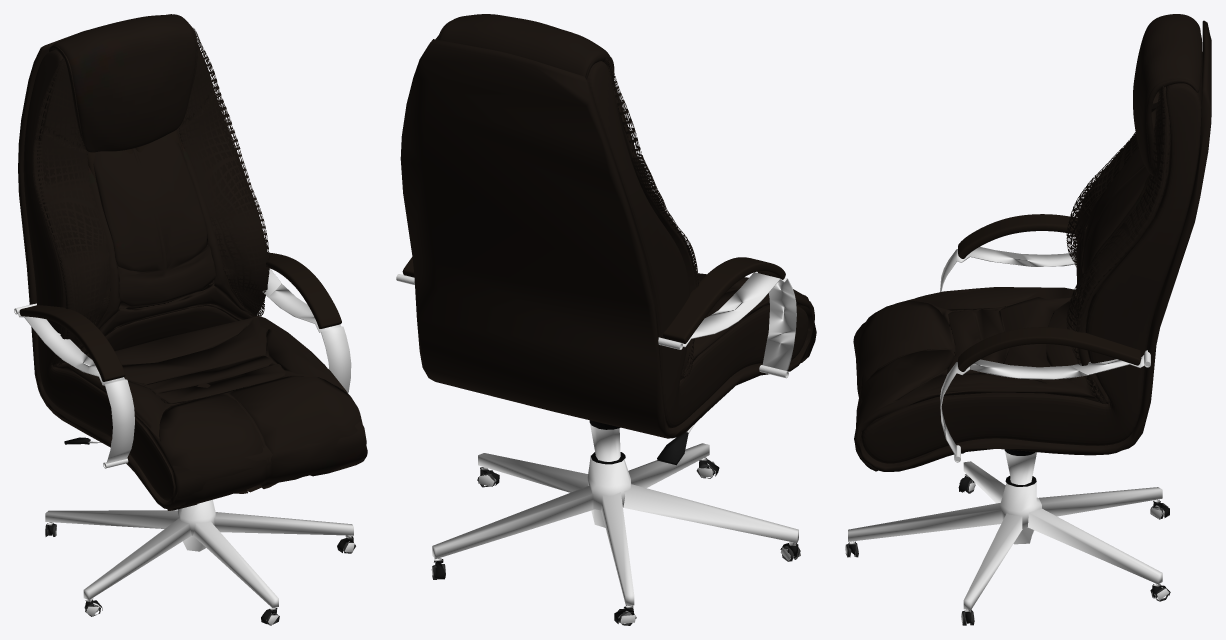
The model's file is chair-exec.glb.
3 renders of one model, left to right at view 1: azimuth 30°, elevation 25°; view 2: azimuth 150°, elevation 25°; view 3: azimuth 270°, elevation 25°, orthographic. The views are drawn at different scales.
Visible parts, largest first — view 1: Cube.006, Cube.005, Cube.001, Plane.004, Plane.003, koltuk model.001, Cube, Cube.003, Cube.004, Plane.007; view 2: Cube.001, koltuk model.001, Cube, Plane.003, Cube.003, Cube.004, Plane.004, Cube.006; view 3: Cube, Cube.006, Cube.001, koltuk model.001, Plane.004, Plane.003, Cube.004, Cube.003, Cube.005, Cube.002.
Boxes of the visible parts, left/top/right/bottom form: Cube.006: left=90, top=317, right=367, bottom=510; Cube.005: left=52, top=134, right=253, bottom=367; Cube.001: left=18, top=14, right=366, bottom=509; Plane.004: left=32, top=28, right=269, bottom=367; Plane.003: left=49, top=14, right=197, bottom=152; koltuk model.001: left=45, top=437, right=355, bottom=625; Cube: left=23, top=49, right=173, bottom=501; Cube.003: left=14, top=268, right=351, bottom=468; Cube.004: left=19, top=252, right=341, bottom=381; Plane.007: left=88, top=130, right=230, bottom=324; Cube.001: left=400, top=39, right=814, bottom=438; koltuk model.001: left=431, top=420, right=800, bottom=625; Cube: left=436, top=35, right=808, bottom=428; Plane.003: left=437, top=14, right=614, bottom=79; Cube.003: left=396, top=272, right=796, bottom=378; Cube.004: left=402, top=257, right=785, bottom=343; Plane.004: left=603, top=58, right=698, bottom=377; Cube.006: left=697, top=273, right=816, bottom=363; Cube: left=861, top=35, right=1202, bottom=463; Cube.006: left=855, top=290, right=1087, bottom=471; Cube.001: left=853, top=20, right=1211, bottom=471; koltuk model.001: left=845, top=449, right=1170, bottom=625; Plane.004: left=1066, top=86, right=1170, bottom=403; Plane.003: left=1133, top=14, right=1201, bottom=175; Cube.004: left=958, top=214, right=1140, bottom=371; Cube.003: left=940, top=247, right=1150, bottom=462; Cube.005: left=1076, top=148, right=1149, bottom=403; Cube.002: left=860, top=392, right=1065, bottom=466.
Bounding box in the file's own units: 0.7043 × 1.22 × 0.7767.
Materials: 7 (1 with a texture image).
